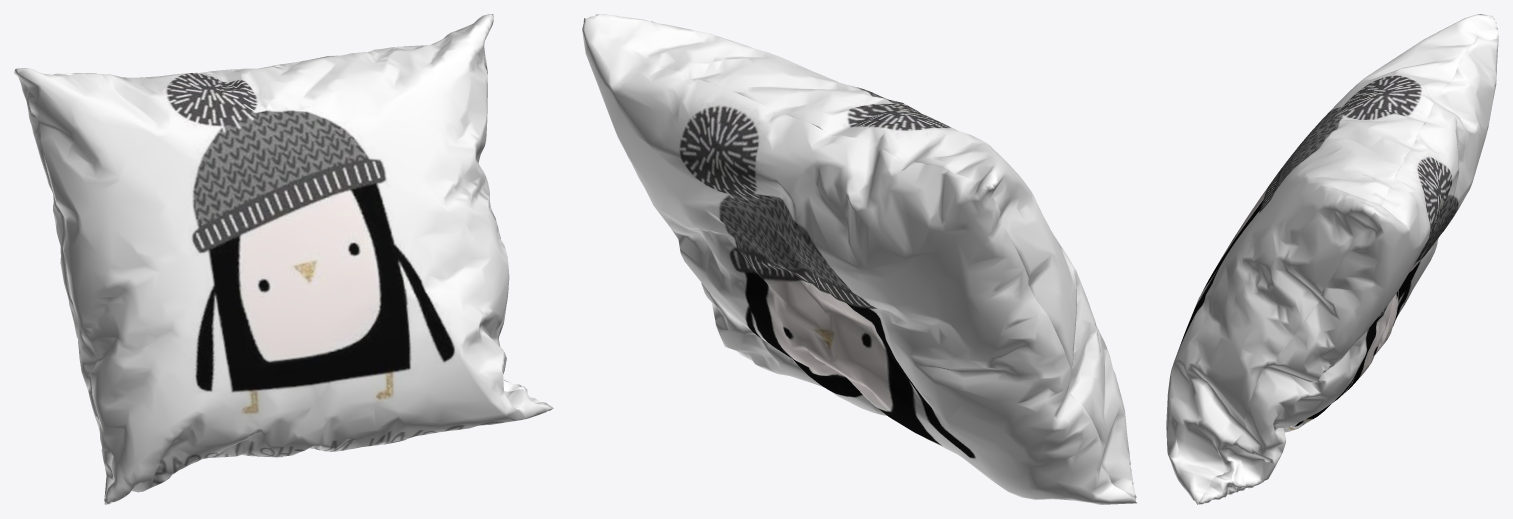
Rendered from Pillow06.glb.
The picture shows the model from 3 angles, left to right: view 1: azimuth 30°, elevation 25°; view 2: azimuth 150°, elevation 25°; view 3: azimuth 270°, elevation 25°; orthographic projection. The views are drawn at different scales.
Visible parts, largest first — view 1: BP_Pillow06; view 2: BP_Pillow06; view 3: BP_Pillow06.
Boxes of the visible parts, <box> form: BP_Pillow06: <box>14,14,553,504</box>; BP_Pillow06: <box>582,14,1136,504</box>; BP_Pillow06: <box>1166,14,1498,504</box>.
Size of the model in its own units: 0.4711 by 0.3693 by 0.3243.
Materials: 1 (1 with a texture image).
